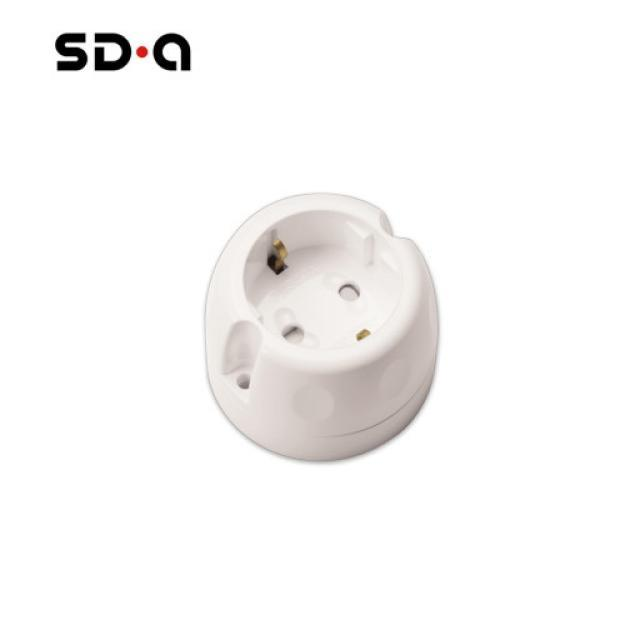typeb: (92, 146, 502, 482)
